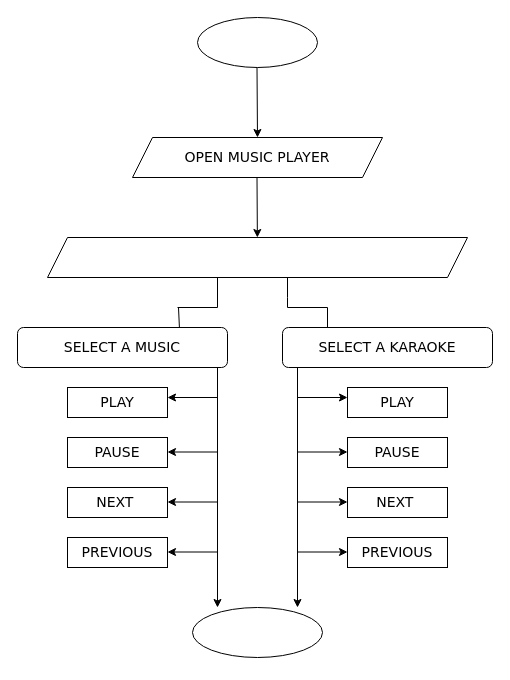
Image size: 510x680. Some labels were removed from this diagram. Each missing label, with the box of its shape:
END: (192, 606, 322, 658)
SHOW MUSIC PLAYLIST: (46, 236, 468, 278)
START: (196, 16, 318, 68)
